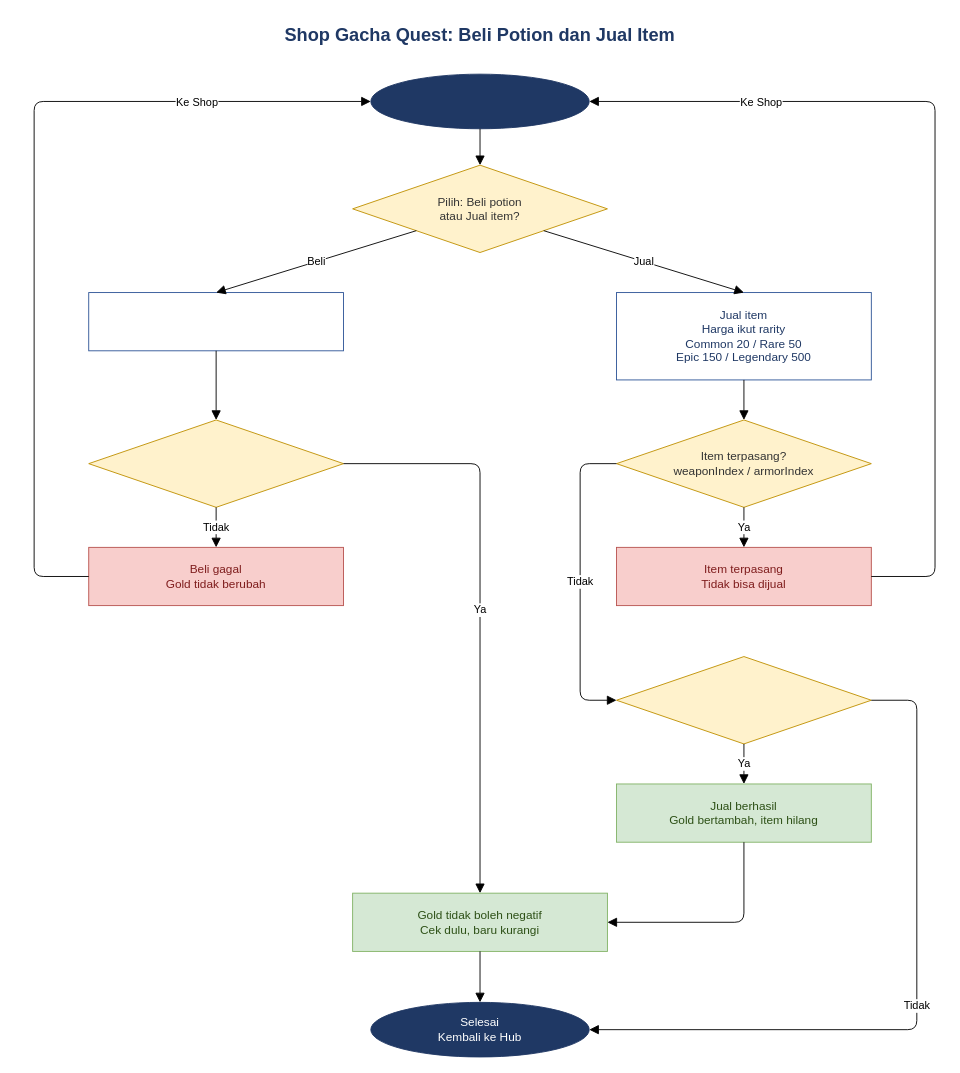
This 960x1073 diagram has some shape labels left out. The box of each missing label's shape, as (x1, y1, x2, y2) in pixels:
Beli potion 40 gold, stok maks 20: (88, 292, 344, 351)
Gold cukup dan stok belum penuh?: (88, 419, 344, 507)
Konfirmasi jual? Ya jual / Tidak batal: (616, 656, 871, 744)
Mulai Shop shopMenu: (370, 73, 589, 129)
